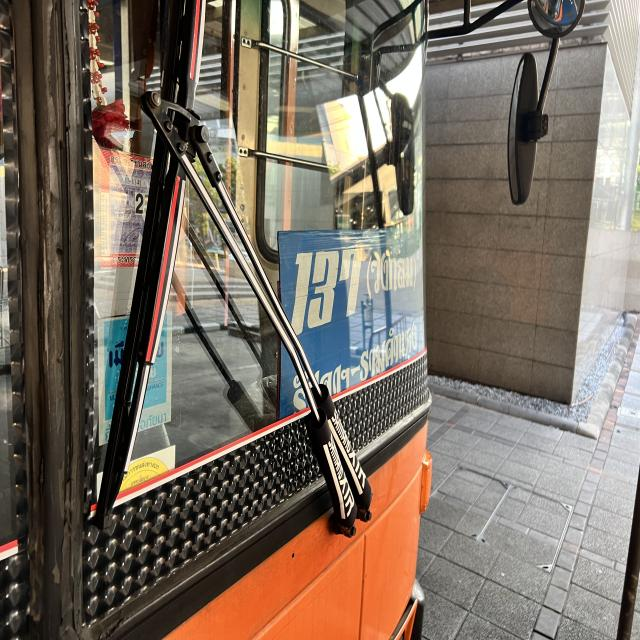BMTA-bus: (0, 0, 441, 640)
Destination-Sign-Normal: (278, 224, 425, 418)
